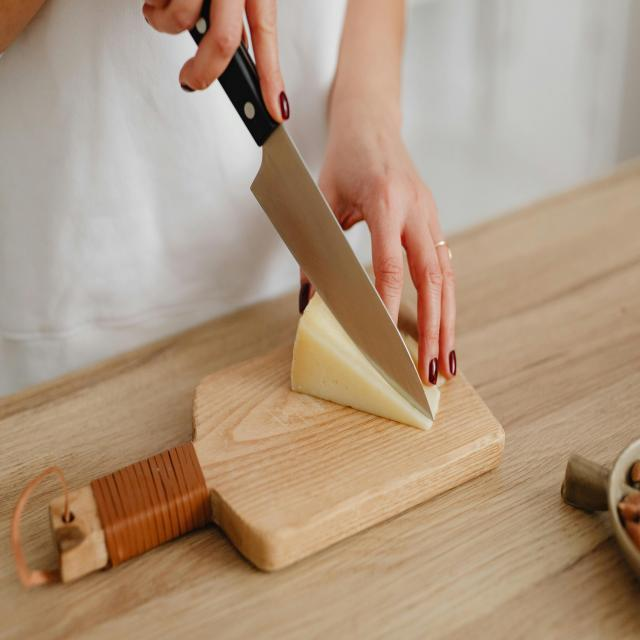knife: (188, 0, 435, 426)
